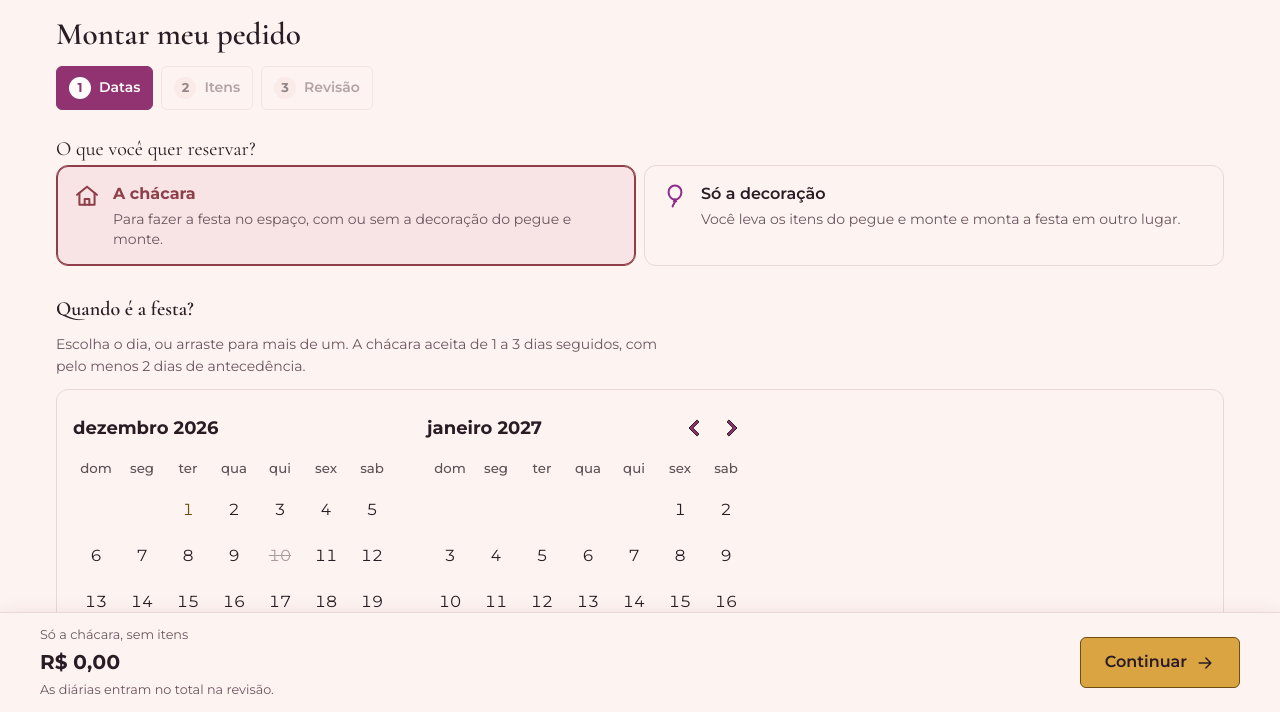
Test: BookingWizard › trata clique único como reserva de um dia
expect the heading "Quando é a festa?" is shown: met, box [56, 298, 194, 322]
Click the button named "quarta-feira, 9 de dezembro de 2026": click(234, 556) [212, 534, 256, 578]
(page scrolled)
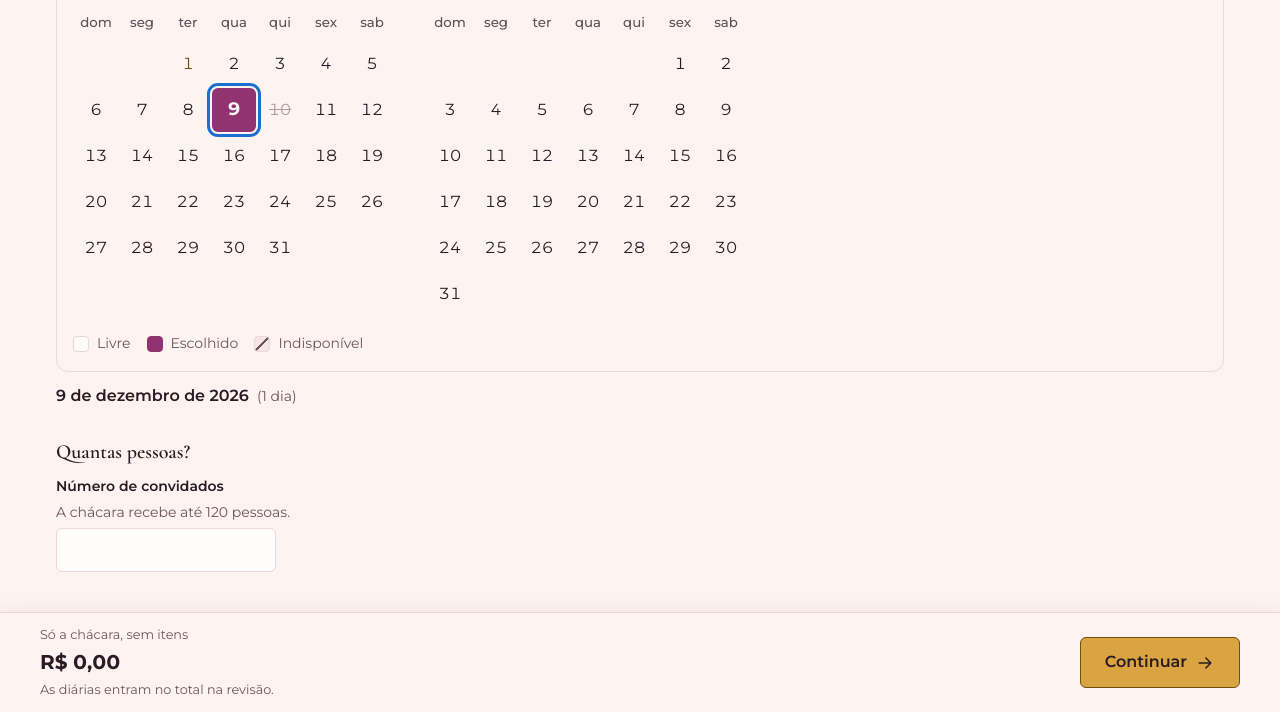
expect the text "9 de dezembro de 2026" is shown: met, box [56, 386, 249, 405]
expect the text "(1 dia)" is shown: met, box [257, 386, 296, 408]
